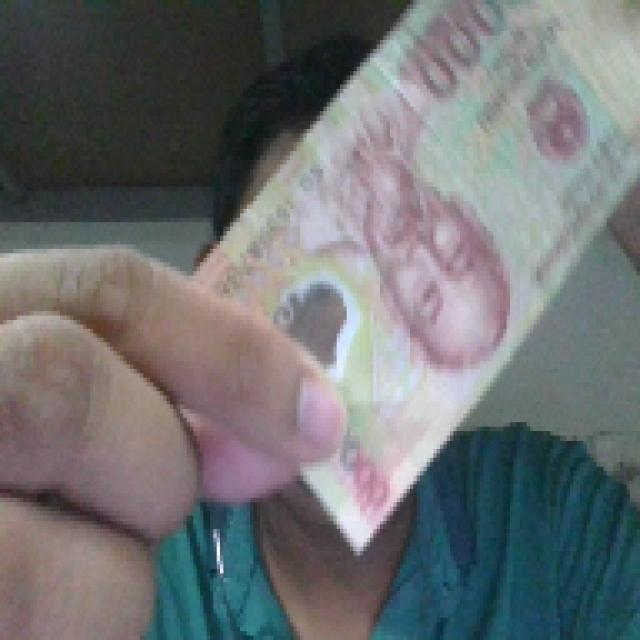10 000 VND: (180, 0, 637, 556)
